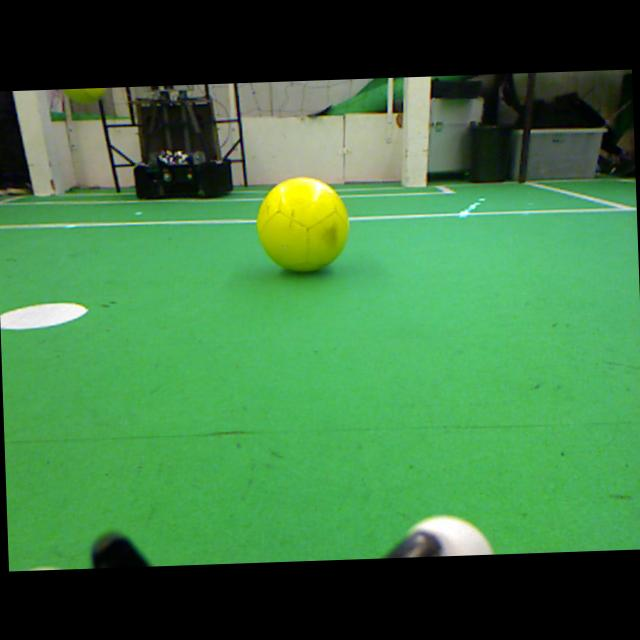ball: (256, 177, 349, 272)
goal: (11, 90, 54, 195), (406, 76, 432, 187)
robot: (133, 84, 233, 198)
